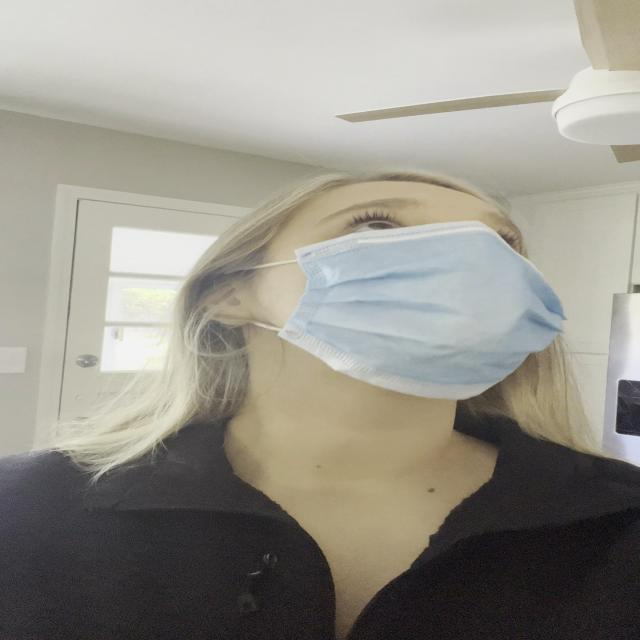no-helmet: (164, 174, 568, 417)
